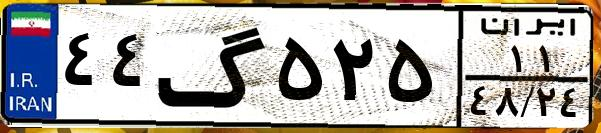1: (537, 27, 568, 80), (508, 27, 537, 80)
2: (330, 28, 385, 110), (535, 70, 560, 125)
4: (57, 26, 110, 100), (110, 28, 156, 98), (560, 70, 590, 125), (470, 70, 495, 125)
5: (270, 28, 330, 110), (385, 28, 445, 110)
8: (495, 70, 520, 125)
گ: (156, 12, 270, 120)
